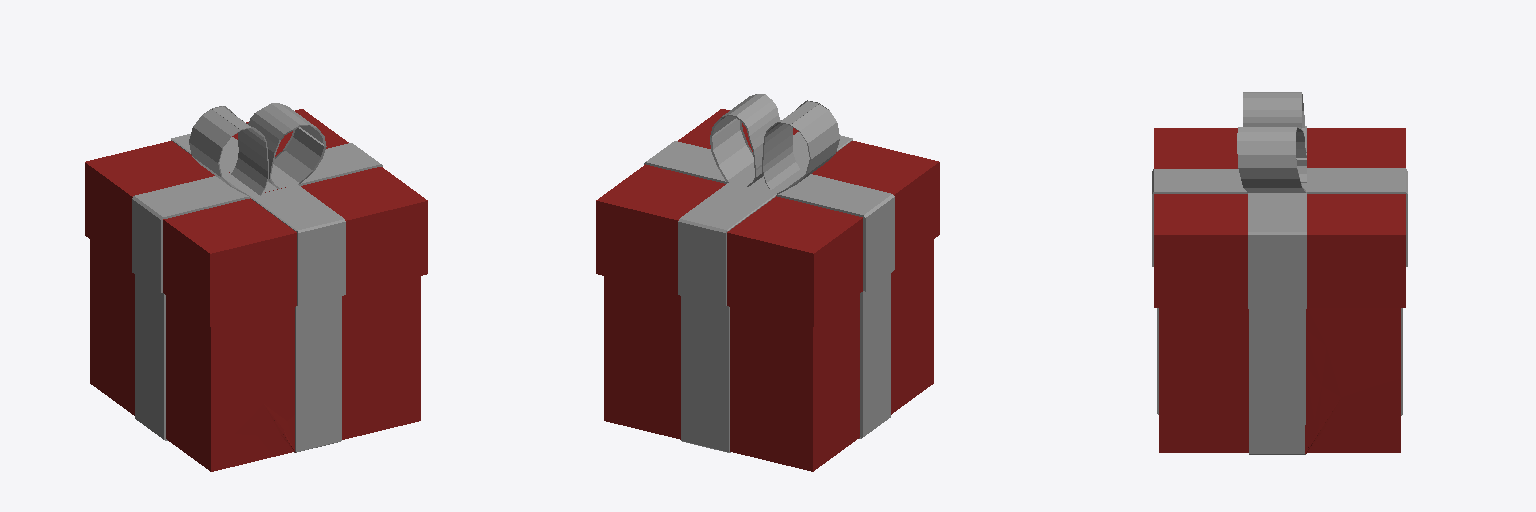
The model's file is present3.obj.
3 views of the same model, side by side, from view 1: azimuth 30°, elevation 25°; view 2: azimuth 150°, elevation 25°; view 3: azimuth 270°, elevation 25° (orthographic).
Parts seen in each view (by area): view 1: Object.1; view 2: Object.1; view 3: Object.1.
Boxes of the visible parts, x1,y1,x2,y2 form: Object.1: [85, 103, 427, 471]; Object.1: [596, 94, 939, 471]; Object.1: [1152, 92, 1407, 454].
Size of the model in its own units: 53.84 by 68.53 by 53.63.